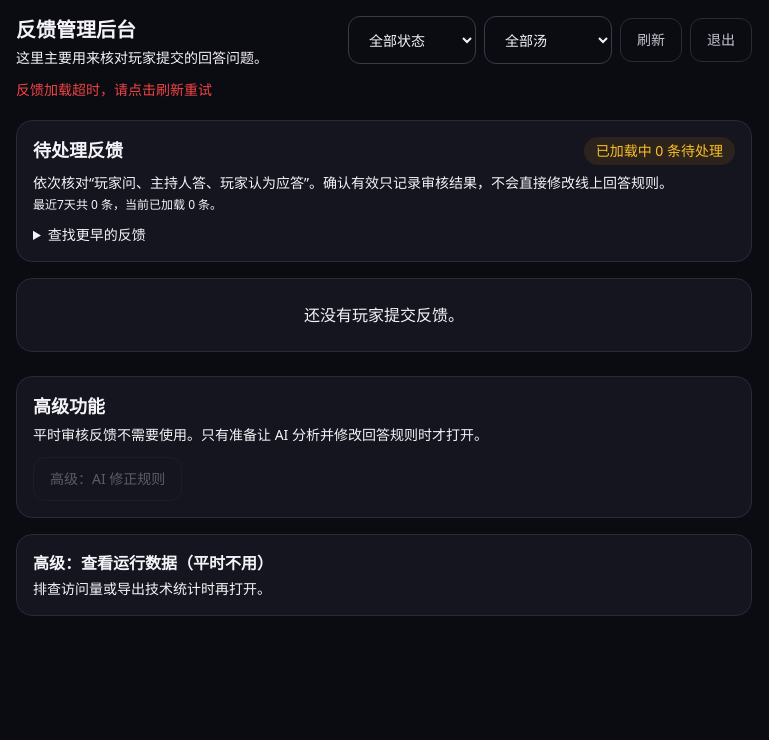
it: a hanging list fetch releases refresh and ignores its late private result
Check: the text "反馈加载超时，请点击刷新重试" is shown, box [16, 80, 212, 99]
Click the button "刷新".
click(651, 40)  # box [620, 18, 682, 62]
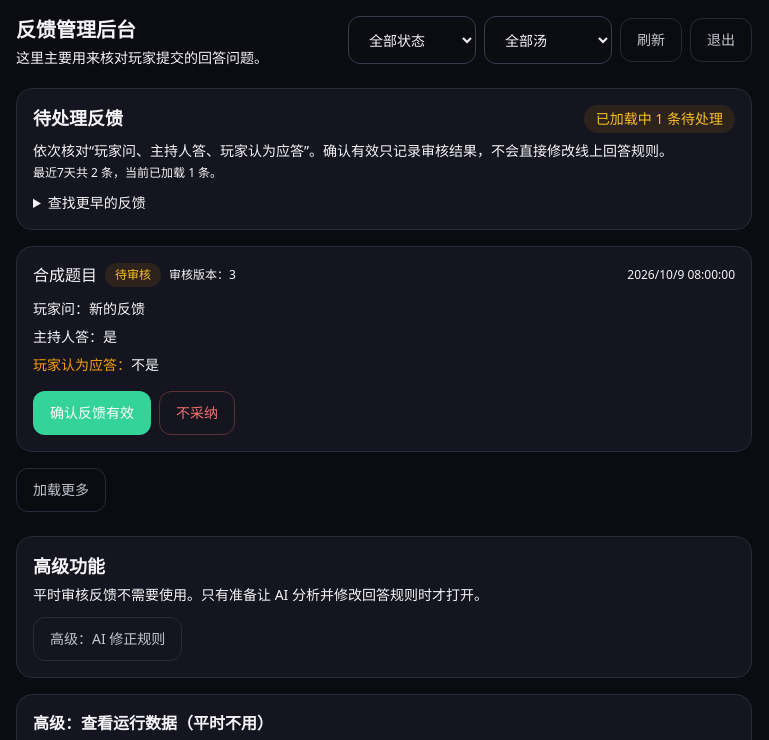
Check: the text "新的反馈" is shown, box [89, 299, 145, 318]
